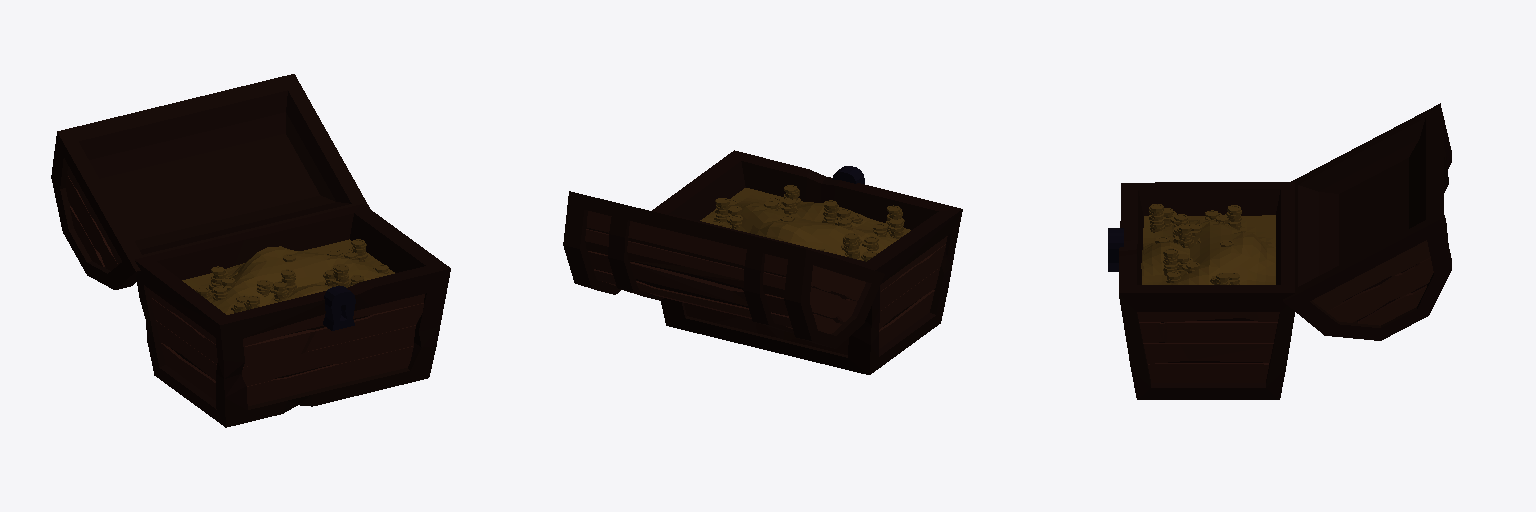
File: Chest_Gold.obj
3 views of the same model, side by side, from view 1: azimuth 30°, elevation 25°; view 2: azimuth 150°, elevation 25°; view 3: azimuth 270°, elevation 25° (orthographic).
Parts seen in each view (by area): view 1: Chest_Gold; view 2: Chest_Gold; view 3: Chest_Gold.
Boxes of the visible parts, x1,y1,x2,y2 form: Chest_Gold: [51, 74, 450, 427]; Chest_Gold: [563, 150, 962, 374]; Chest_Gold: [1108, 103, 1451, 399].
Bounding box in the file's own units: 1.18 × 0.8994 × 1.48.